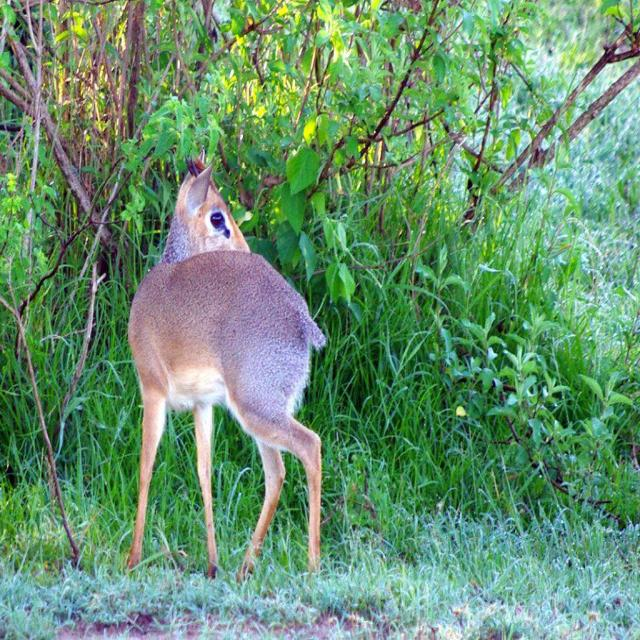Deer: (124, 146, 326, 572)
